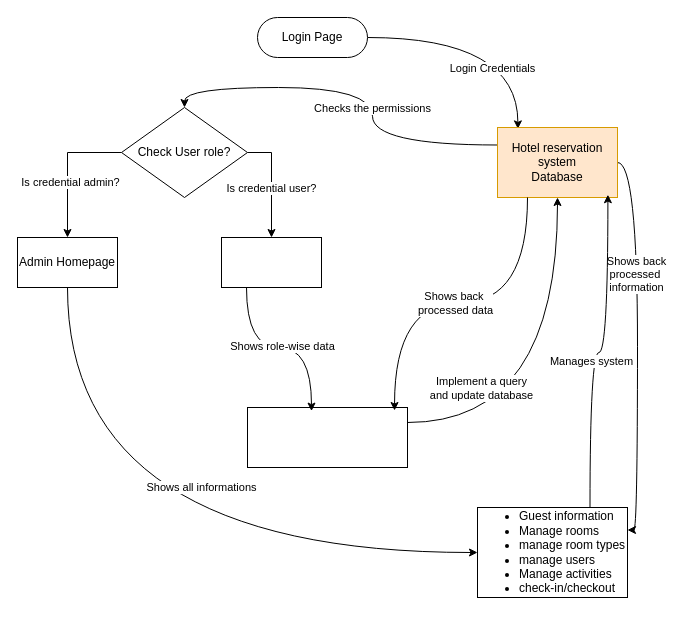
This 683x625 diagram has some shape labels left out. Here are the shapes that lost their labels. From the top down, the centre of each, then its label:
At [271,262]: "User Homepage".
At [327,437]: "guest information check-in/checkout activities".
